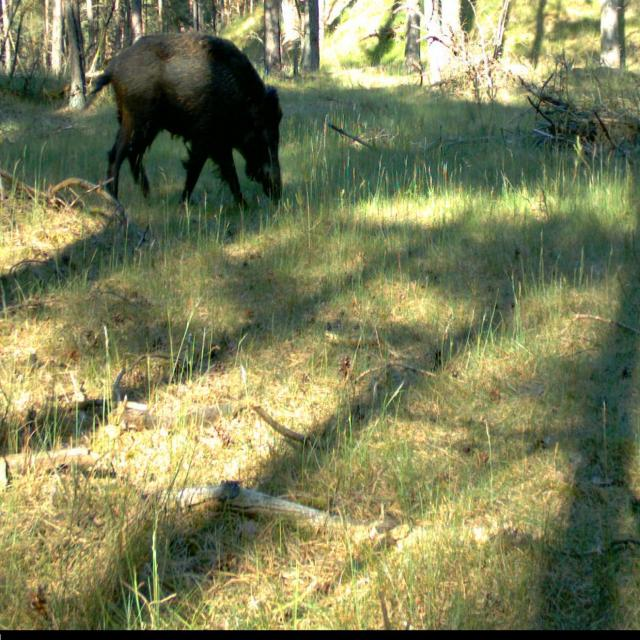pig: (115, 26, 292, 230)
